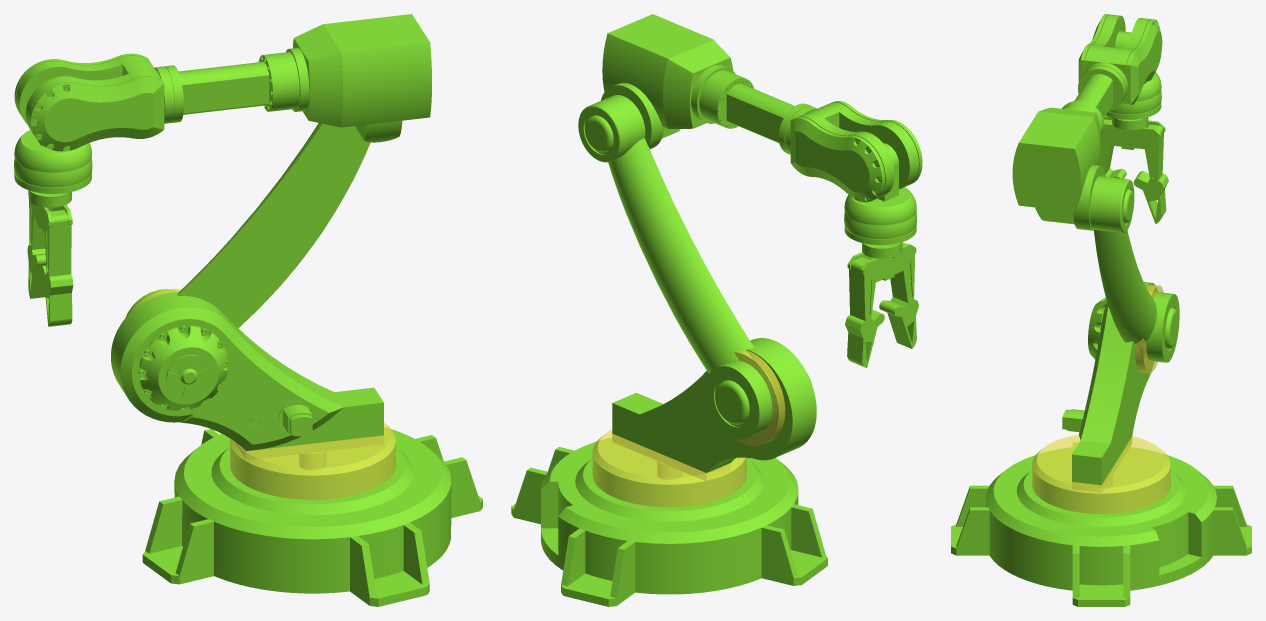
File: robotic arm-v6.gltf
3 views of the same model, side by side, from view 1: azimuth 30°, elevation 25°; view 2: azimuth 150°, elevation 25°; view 3: azimuth 270°, elevation 25° (orthographic). The views are drawn at different scales.
Parts seen in each view (by area): view 1: Structure001, Base, Component 2, Structure4, SmallerBase, Structure2, Cube, [Interactable] 001, Foot01, Foot02, Clamp1, Structure5 (+5 smaller); view 2: Component 2, Base, Structure001, SmallerBase, Structure4, Structure2, [Interactable] 001, Cube, Foot01, Foot04, Clamp2, Clamp1 (+6 smaller); view 3: Base, Structure001, Component 2, SmallerBase, [Interactable] 001, Cube, Structure4, Structure2, Foot04, Foot02, Foot03, Clamp2 (+6 smaller).
Boxes of the visible parts, bbox=[...] form: Structure001: bbox=[111, 292, 383, 459]; Base: bbox=[174, 427, 451, 593]; Component 2: bbox=[125, 123, 370, 328]; Structure4: bbox=[14, 53, 164, 151]; SmallerBase: bbox=[211, 440, 414, 515]; Structure2: bbox=[154, 24, 342, 127]; Cube: bbox=[323, 14, 431, 127]; [Interactable] 001: bbox=[230, 422, 395, 499]; Foot01: bbox=[142, 496, 213, 584]; Foot02: bbox=[350, 522, 429, 606]; Clamp1: bbox=[41, 210, 73, 326]; Structure5: bbox=[14, 130, 91, 172]; Component 2: bbox=[578, 95, 777, 439]; Base: bbox=[541, 437, 798, 594]; Structure001: bbox=[612, 338, 816, 480]; SmallerBase: bbox=[575, 445, 763, 521]; Structure4: bbox=[790, 101, 922, 202]; Structure2: bbox=[663, 40, 816, 154]; [Interactable] 001: bbox=[592, 429, 746, 507]; Cube: bbox=[602, 14, 713, 128]; Foot01: bbox=[761, 504, 827, 585]; Foot04: bbox=[561, 528, 635, 606]; Clamp2: bbox=[845, 257, 884, 367]; Clamp1: bbox=[879, 242, 918, 348]; Base: bbox=[986, 447, 1216, 590]; Structure001: bbox=[1062, 282, 1157, 492]; Component 2: bbox=[1090, 176, 1179, 362]; SmallerBase: bbox=[1016, 454, 1186, 526]; [Interactable] 001: bbox=[1032, 434, 1170, 513]; Cube: bbox=[1012, 111, 1100, 211]; Structure4: bbox=[1078, 14, 1162, 104]; Structure2: bbox=[1039, 62, 1127, 164]; Foot04: bbox=[1213, 485, 1251, 555]; Foot02: bbox=[951, 485, 989, 555]; Foot03: bbox=[1072, 545, 1130, 606]; Clamp2: bbox=[1133, 124, 1168, 223].
Size of the model in its own units: 1.63 by 1.84 by 1.17.
